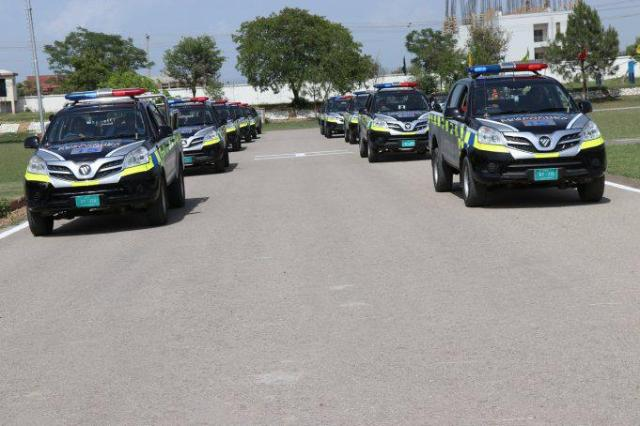police_car: (428, 59, 604, 207), (19, 87, 192, 231), (361, 81, 429, 163), (172, 94, 223, 176)
